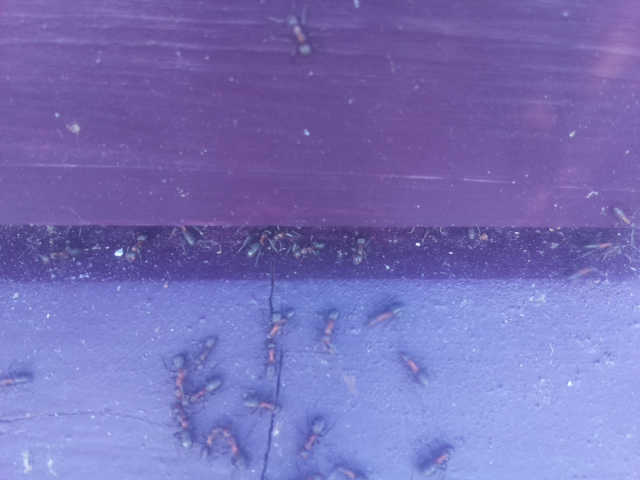ant: (200, 420, 254, 476), (298, 408, 329, 464), (186, 332, 224, 373), (183, 372, 227, 407), (361, 300, 410, 329), (169, 405, 197, 454), (412, 447, 455, 478), (121, 224, 150, 269), (317, 304, 342, 356), (284, 12, 314, 55), (266, 304, 295, 342), (346, 229, 372, 271), (290, 238, 330, 261), (0, 367, 32, 389)
